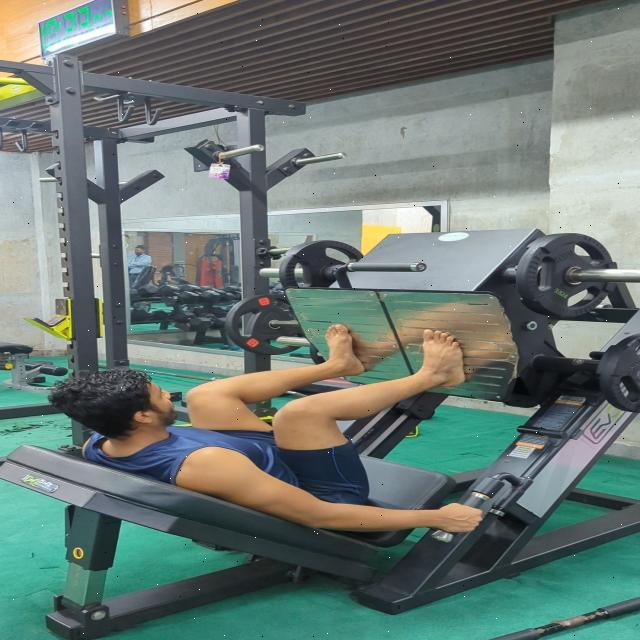Normal_LegPress: (38, 318, 500, 540)
